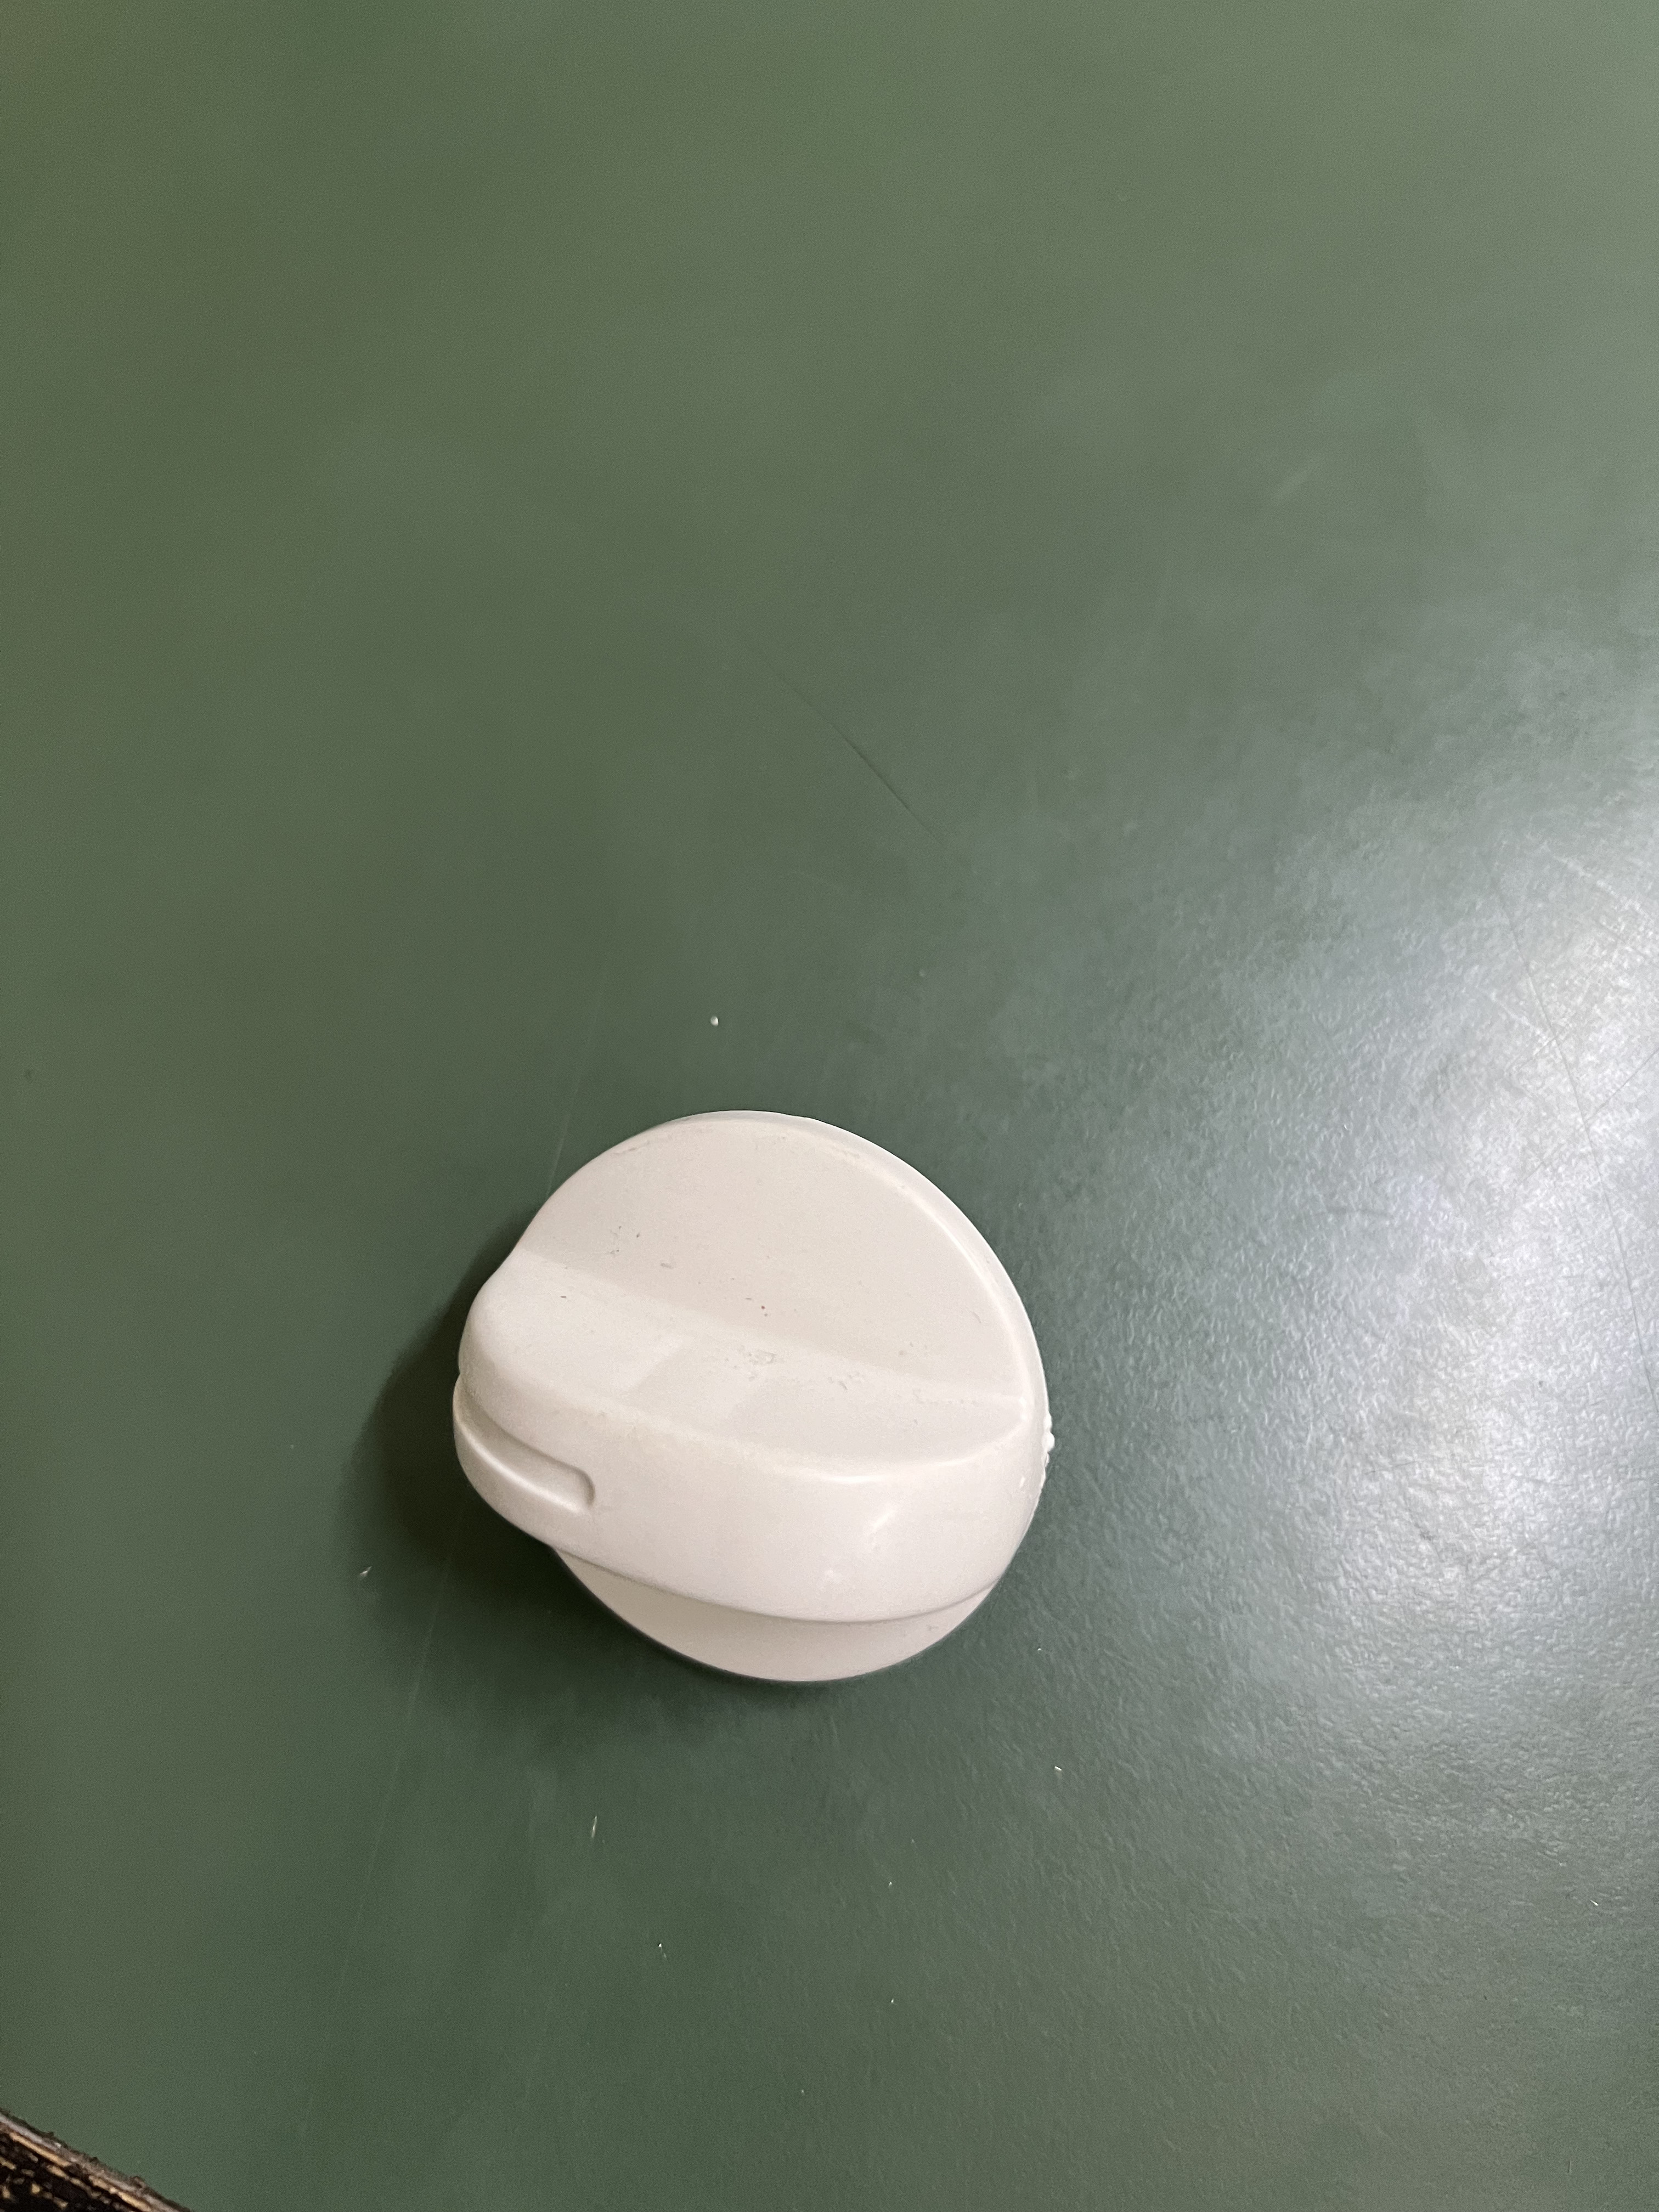regulator: (430, 1116, 1084, 1679)
